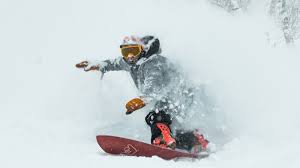snowboard: (94, 132, 209, 161)
